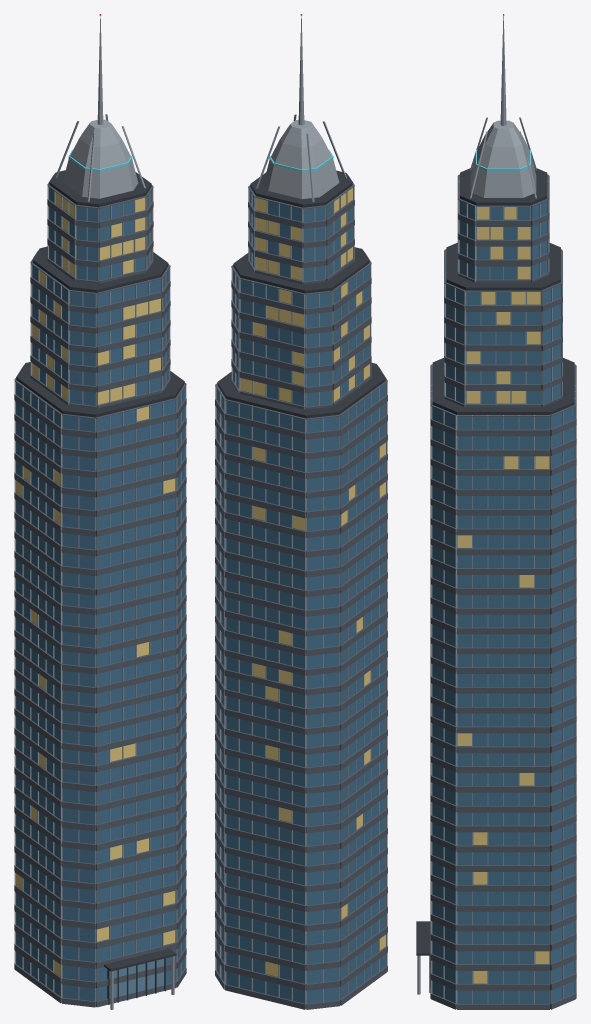
The model's file is BUILDING_10.obj.
The picture shows the model from 3 angles, left to right: view 1: azimuth 30°, elevation 25°; view 2: azimuth 150°, elevation 25°; view 3: azimuth 270°, elevation 25°; orthographic projection.
Visible parts, largest first — view 1: facade_floor00, mullions, facade_floor30, facade_floor36, crown, lobby, setback_00, facade_floor29, setback_30, facade_floor12, facade_floor07, facade_floor34 (+36 smaller); view 2: facade_floor00, mullions, facade_floor30, facade_floor36, crown, setback_00, facade_floor24, facade_floor29, setback_30, facade_floor35, facade_floor16, facade_floor34 (+35 smaller); view 3: facade_floor00, mullions, facade_floor30, facade_floor36, crown, setback_00, setback_30, facade_floor35, facade_floor29, facade_floor27, facade_floor13, facade_floor08 (+36 smaller).
Boxes of the visible parts, x1,y1,x2,y2 form: facade_floor00: (14,380,186,1007); mullions: (14,186,186,1006); facade_floor30: (30,262,170,408); facade_floor36: (47,185,153,283); crown: (62,119,138,198); lobby: (104,948,176,1009); setback_00: (16,362,184,417); facade_floor29: (14,366,186,438); setback_30: (32,246,168,292); facade_floor12: (14,728,186,772); facade_floor07: (14,826,186,870); facade_floor34: (30,296,170,333); facade_floor00: (215,383,387,1009); mullions: (215,185,387,1004); facade_floor30: (231,263,371,409); facade_floor36: (248,187,354,284); crown: (263,119,339,199); setback_00: (217,362,385,418); facade_floor24: (215,482,387,537); facade_floor29: (215,367,387,439); setback_30: (233,247,369,293); facade_floor35: (231,252,371,314); facade_floor16: (215,651,387,695); facade_floor34: (231,291,371,334); facade_floor00: (430,383,576,1009); mullions: (430,175,576,1007); facade_floor30: (444,251,562,407); facade_floor36: (457,180,549,282); crown: (470,120,536,197); setback_00: (432,358,574,414); setback_30: (446,242,560,290); facade_floor35: (444,249,562,311); facade_floor29: (430,364,576,436); facade_floor27: (430,445,576,475); facade_floor13: (430,722,576,753); facade_floor08: (430,821,576,852).
Size of the model in its own units: 26.82 by 195 by 29.41.
